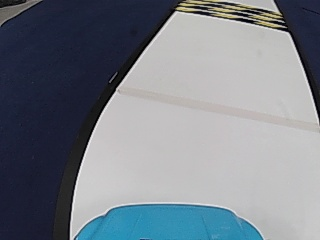bump: (191, 2, 277, 29)
